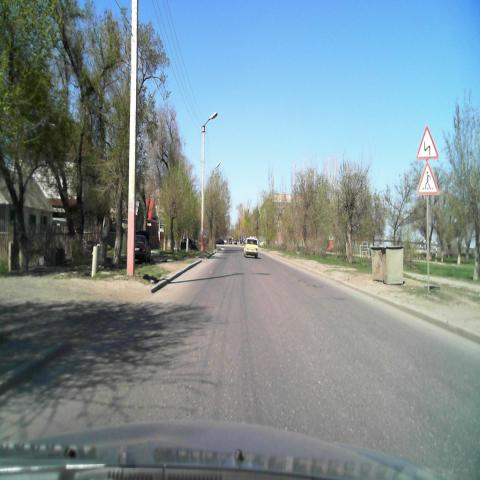1_12_2: (416, 126, 438, 158)
1_22: (416, 158, 438, 195)
